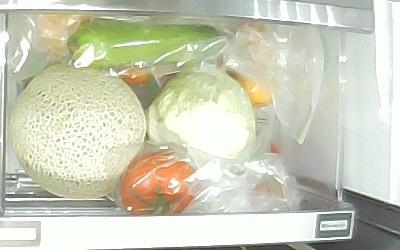cabbage: (146, 70, 253, 162)
melon: (9, 62, 147, 200)
tomato_vinyl: (121, 152, 199, 216)
zucchini_vinyl: (67, 22, 225, 70)
